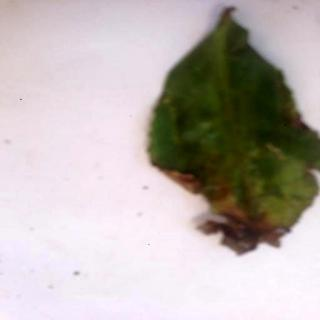Brown Blight: (149, 8, 320, 254)
